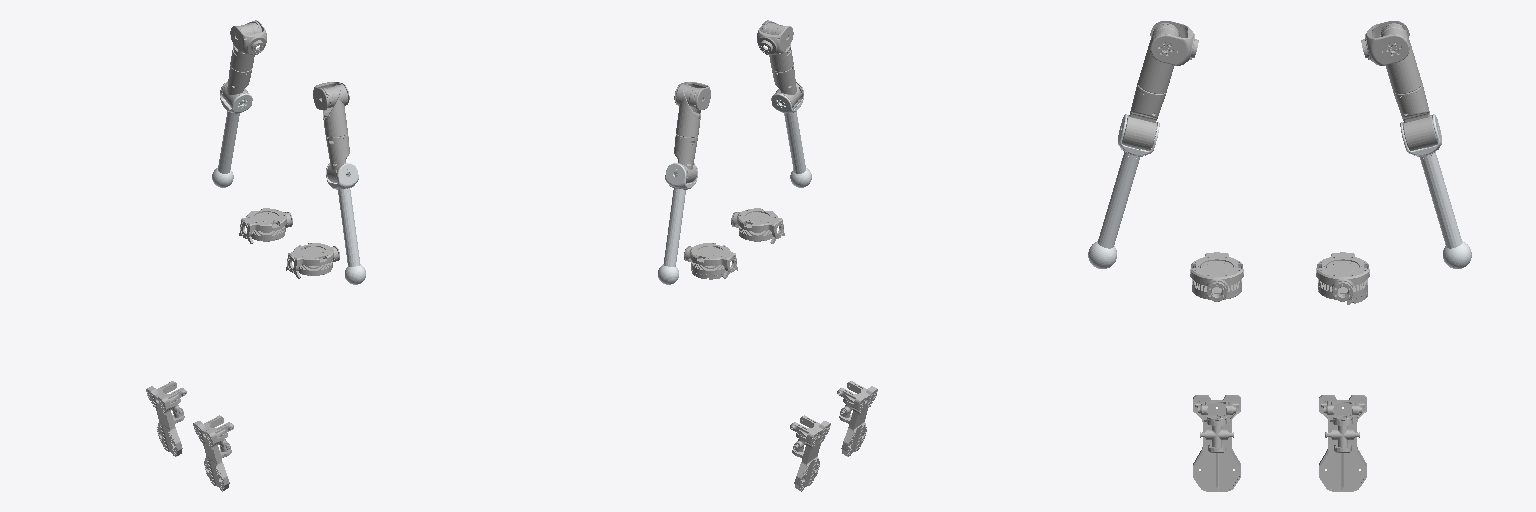
--- What the picture shows (computed from the rendered views, not written in the file) ---
Views: 3 orthographic renders of the robot side by side, from view 1: azimuth 30°, elevation 25°; view 2: azimuth 150°, elevation 25°; view 3: azimuth 270°, elevation 25°.
Robot: humanoid — 22 links, 21 joints (20 revolute, 1 fixed); root link pelvis; default pose: joints at zero except 2 at the middle of their limits (knee_pitch_l_joint = 1.31, knee_pitch_r_joint = 1.31).
Visible links, largest first — view 1: elbow_r_link, ankle_roll_r_link, ankle_roll_l_link, elbow_l_link, hip_roll_r_link, hip_roll_l_link, shoulder_roll_r_link, shoulder_yaw_r_link, shoulder_pitch_l_link, shoulder_yaw_l_link, shoulder_roll_l_link; view 2: elbow_l_link, ankle_roll_l_link, ankle_roll_r_link, hip_roll_l_link, elbow_r_link, hip_roll_r_link, shoulder_roll_l_link, shoulder_yaw_l_link, shoulder_pitch_r_link, shoulder_yaw_r_link, shoulder_roll_r_link; view 3: ankle_roll_l_link, ankle_roll_r_link, elbow_l_link, elbow_r_link, hip_roll_l_link, hip_roll_r_link, shoulder_yaw_l_link, shoulder_yaw_r_link, shoulder_pitch_l_link, shoulder_pitch_r_link, shoulder_roll_l_link, shoulder_roll_r_link.
Link boxes in pixels (x1,y1,x2,y2): elbow_r_link: [326, 163, 365, 284]; ankle_roll_r_link: [193, 415, 233, 491]; ankle_roll_l_link: [146, 381, 186, 456]; elbow_l_link: [212, 81, 252, 187]; hip_roll_r_link: [286, 243, 339, 278]; hip_roll_l_link: [239, 208, 292, 243]; shoulder_roll_r_link: [323, 83, 347, 137]; shoulder_yaw_r_link: [326, 134, 349, 183]; shoulder_pitch_l_link: [230, 20, 266, 54]; shoulder_yaw_l_link: [221, 65, 251, 107]; shoulder_roll_l_link: [230, 21, 261, 71]; elbow_l_link: [658, 163, 697, 284]; ankle_roll_l_link: [790, 415, 830, 491]; ankle_roll_r_link: [837, 381, 877, 456]; hip_roll_l_link: [684, 243, 737, 279]; elbow_r_link: [771, 81, 811, 187]; hip_roll_r_link: [731, 208, 784, 243]; shoulder_roll_l_link: [676, 83, 701, 137]; shoulder_yaw_l_link: [674, 134, 697, 183]; shoulder_pitch_r_link: [757, 20, 793, 54]; shoulder_yaw_r_link: [772, 65, 802, 107]; shoulder_roll_r_link: [762, 21, 793, 71]; ankle_roll_l_link: [1319, 395, 1366, 491]; ankle_roll_r_link: [1193, 395, 1240, 491]; elbow_l_link: [1400, 114, 1471, 268]; elbow_r_link: [1088, 114, 1159, 268]; hip_roll_l_link: [1316, 252, 1369, 304]; hip_roll_r_link: [1190, 252, 1243, 301]; shoulder_yaw_l_link: [1393, 83, 1437, 150]; shoulder_yaw_r_link: [1122, 83, 1166, 150]; shoulder_pitch_l_link: [1361, 21, 1409, 65]; shoulder_pitch_r_link: [1150, 21, 1198, 65]; shoulder_roll_l_link: [1381, 23, 1421, 93]; shoulder_roll_r_link: [1138, 23, 1178, 93].
Bounding box of the posed robot: 0.4311 × 0.7924 × 1.2 m (x, y, z).
14 mesh visuals loaded from 22 distinct referenced files (14 binary STL); not drawn: 8 (reference not matched to a file when rendering).

URDF robot description (humanoid):
<?xml version="1.0" encoding="utf-8"?>
<robot
  name="humanoid">
  <link
    name="pelvis">
    <inertial>
      <origin
        xyz="-0.047395 0.00 -0.046657"
        rpy="0 0 0" />
      <mass
        value="5.587228" />
      <inertia
        ixx="0.080339"
        ixy="-0.0000080"
        ixz="0.006666"
        iyy="0.029082"
        iyz="-0.000004"
        izz="0.091570" />
    </inertial>
    <visual>
      <origin
        xyz="0 0 0"
        rpy="0 0 0" />
      <geometry>
        <mesh
          filename="../meshes/pelvis.STL" />
      </geometry>
      <material
        name="">
        <color
          rgba="0.752941176470588 0.752941176470588 0.752941176470588 1" />
      </material>
    </visual>
    <collision>
      <origin
        xyz="0 0 0"
        rpy="0 0 0" />
      <geometry>
        <mesh
          filename="../meshes/pelvis.STL" />
      </geometry>
    </collision>
  </link>
  <link
    name="hip_roll_l_link">
    <inertial>
      <origin
        xyz="-0.00048 0.00336 -0.00372"
        rpy="0 0 0" />
      <mass
        value="1.12809" />
      <inertia
        ixx="0.00058"
        ixy="0.00000"
        ixz="0.00000"
        iyy="0.00093"
        iyz="-0.00011"
        izz="0.00108" />
    </inertial>
    <visual>
      <origin
        xyz="0 0 0"
        rpy="0 0 0" />
      <geometry>
        <mesh
          filename="../meshes/hip_roll_l_link.STL" />
      </geometry>
      <material
        name="">
        <color
          rgba="0.752941176470588 0.752941176470588 0.752941176470588 1" />
      </material>
    </visual>
    <collision>
      <origin
        xyz="0 0 0"
        rpy="0 0 0" />
      <geometry>
        <mesh
          filename="../meshes/hip_roll_l_link.STL" />
      </geometry>
    </collision>
  </link>
  <joint
    name="hip_roll_l_joint"
    type="revolute">
    <origin
      xyz="0 0.13 -0.0659230484541305"
      rpy="0 0 0" />
    <parent
      link="pelvis" />
    <child
      link="hip_roll_l_link" />
    <axis
      xyz="1 0 0" />
    <limit effort="150" lower="-0.97" upper="0.97" velocity="12"/>
  </joint>
  <link
    name="hip_yaw_l_link">
    <inertial>
      <origin
        xyz="0.00104 0.00351 0.00968"
        rpy="0 0 0" />
      <mass
        value="1.91605" />
      <inertia
        ixx="0.00237"
        ixy="-0.00005"
        ixz="-0.00001"
        iyy="0.00271"
        iyz="-0.00005"
        izz="0.00152" />
    </inertial>
    <visual>
      <origin
        xyz="0 0 0"
        rpy="0 0 0" />
      <geometry>
        <mesh
          filename="../meshes/hip_yaw_l_link.STL" />
      </geometry>
      <material
        name="">
        <color
          rgba="0.752941176470588 0.752941176470588 0.752941176470588 1" />
      </material>
    </visual>
    <collision>
      <origin
        xyz="0 0 0"
        rpy="0 0 0" />
      <geometry>
        <mesh
          filename="../meshes/hip_yaw_l_link.STL" />
      </geometry>
    </collision>
  </link>
  <joint
    name="hip_yaw_l_joint"
    type="revolute">
    <origin
      xyz="0 0 -0.116"
      rpy="0 0 0" />
    <parent
      link="hip_roll_l_link" />
    <child
      link="hip_yaw_l_link" />
    <axis
      xyz="0 0 1" />
    <limit effort="90" lower="-1.0472" upper="1.0472" velocity="14"/>
  </joint>
  <link
    name="hip_pitch_l_link">
    <inertial>
      <origin
        xyz="0.00823 -0.00853 -0.13551"
        rpy="0 0 0" />
      <mass
        value="3.37311" />
      <inertia
        ixx="0.02261"
        ixy="0.00036"
        ixz="-0.00020"
        iyy="0.02274"
        iyz="-0.00132"
        izz="0.00637" />
    </inertial>
    <visual>
      <origin
        xyz="0 0 0"
        rpy="0 0 0" />
      <geometry>
        <mesh
          filename="../meshes/hip_pitch_l_link.STL" />
      </geometry>
      <material
        name="">
        <color
          rgba="0.752941176470588 0.752941176470588 0.752941176470588 1" />
      </material>
    </visual>
    <collision>
      <origin
        xyz="0 0 0"
        rpy="0 0 0" />
      <geometry>
        <mesh
          filename="../meshes/hip_pitch_l_link.STL" />
      </geometry>
    </collision>
  </link>
  <joint
    name="hip_pitch_l_joint"
    type="revolute">
    <origin
      xyz="0 0 0"
      rpy="0 0 0" />
    <parent
      link="hip_yaw_l_link" />
    <child
      link="hip_pitch_l_link" />
    <axis
      xyz="0 1 0" />
    <limit effort="150" lower="-1.57" upper="0.5236" velocity="12"/>
  </joint>
  <link
    name="knee_pitch_l_link">
    <inertial>
      <origin
        xyz="0.00228 0.00293 -0.12066"
        rpy="0 0 0" />
      <mass
        value="2.28832" />
      <inertia
        ixx="0.02033"
        ixy="0.00004"
        ixz="0.00049"
        iyy="0.02013"
        iyz="0.00089"
        izz="0.00090" />
    </inertial>
    <visual>
      <origin
        xyz="0 0 0"
        rpy="0 0 0" />
      <geometry>
        <mesh
          filename="../meshes/knee_pitch_l_link.STL" />
      </geometry>
      <material
        name="">
        <color
          rgba="0.752941176470588 0.752941176470588 0.752941176470588 1" />
      </material>
    </visual>
    <collision>
      <origin
        xyz="0 0 0"
        rpy="0 0 0" />
      <geometry>
        <mesh
          filename="../meshes/knee_pitch_l_link.STL" />
      </geometry>
    </collision>
  </link>
  <joint
    name="knee_pitch_l_joint"
    type="revolute">
    <origin
      xyz="0 0 -0.3"
      rpy="0 0 0" />
    <parent
      link="hip_pitch_l_link" />
    <child
      link="knee_pitch_l_link" />
    <axis
      xyz="0 1 0" />
    <limit effort="150" lower="0.1745" upper="2.443" velocity="12"/>
  </joint>
  <link
    name="ankle_pitch_l_link">
    <inertial>
      <origin
        xyz="0.00027 0.00 0.00"
        rpy="0 0 0" />
      <mass
        value="0.15163" />
      <inertia
        ixx="0.00003"
        ixy="0.00000"
        ixz="0.00000"
        iyy="0.00003"
        iyz="0.00000"
        izz="0.00006" />
    </inertial>
    <visual>
      <origin
        xyz="0 0 0"
        rpy="0 0 0" />
      <geometry>
        <mesh
          filename="../meshes/ankle_pitch_l_link.STL" />
      </geometry>
      <material
        name="">
        <color
          rgba="0.752941176470588 0.752941176470588 0.752941176470588 1" />
      </material>
    </visual>
    <collision>
      <origin
        xyz="0 0 0"
        rpy="0 0 0" />
      <geometry>
        <mesh
          filename="../meshes/ankle_pitch_l_link.STL" />
      </geometry>
    </collision>
  </link>
  <joint
    name="ankle_pitch_l_joint"
    type="revolute">
    <origin
      xyz="0 0 -0.3"
      rpy="0 0 0" />
    <parent
      link="knee_pitch_l_link" />
    <child
      link="ankle_pitch_l_link" />
    <axis
      xyz="0 1 0" />
    <limit effort="60" lower="-1.22" upper="0.5236" velocity="7.8"/>
  </joint>
  <link
    name="ankle_roll_l_link">
    <inertial>
      <origin
        xyz="0.00499834596807007 3.85656999529749E-07 -0.0269363007684662"
        rpy="0 0 0" />
      <mass
        value="0.658333536719065" />
      <inertia
        ixx="0.000513570989980863"
        ixy="-4.87505487499137E-09"
        ixz="0.000203238044973804"
        iyy="0.00217612928759338"
        iyz="7.25924990022402E-10"
        izz="0.00236715733639348" />
    </inertial>
    <visual>
      <origin
        xyz="0 0 0"
        rpy="0 0 0" />
      <geometry>
        <mesh
          filename="../meshes/ankle_roll_l_link.STL" />
      </geometry>
      <material
        name="">
        <color
          rgba="0.752941176470588 0.752941176470588 0.752941176470588 1" />
      </material>
    </visual>
    <collision>
      <origin
        xyz="0 0 0"
        rpy="0 0 0" />
      <geometry>
        <mesh
          filename="../meshes/ankle_roll_l_link.STL" />
      </geometry>
    </collision>
  </link>
  <joint
    name="ankle_roll_l_joint"
    type="revolute">
    <origin
      xyz="0 0 0"
      rpy="0 0 0" />
    <parent
      link="ankle_pitch_l_link" />
    <child
      link="ankle_roll_l_link" />
    <axis
      xyz="1 0 0" />
    <limit effort="30" lower="-0.4363" upper="0.4363" velocity="7.8"/>
  </joint>
  <link
    name="hip_roll_r_link">
    <inertial>
      <origin
        xyz="-0.00048 -0.00336 -0.00372"
        rpy="0 0 0" />
      <mass
        value="1.12809" />
      <inertia
        ixx="0.00058"
        ixy="0.00000"
        ixz="0.00000"
        iyy="0.00093"
        iyz="0.00011"
        izz="0.00108" />
    </inertial>
    <visual>
      <origin
        xyz="0 0 0"
        rpy="0 0 0" />
      <geometry>
        <mesh
          filename="../meshes/hip_roll_r_link.STL" />
      </geometry>
      <material
        name="">
        <color
          rgba="0.752941176470588 0.752941176470588 0.752941176470588 1" />
      </material>
    </visual>
    <collision>
      <origin
        xyz="0 0 0"
        rpy="0 0 0" />
      <geometry>
        <mesh
          filename="../meshes/hip_roll_r_link.STL" />
      </geometry>
    </collision>
  </link>
  <joint
    name="hip_roll_r_joint"
    type="revolute">
    <origin
      xyz="0 -0.13 -0.0659230484541306"
      rpy="0 0 0" />
    <parent
      link="pelvis" />
    <child
      link="hip_roll_r_link" />
    <axis
      xyz="1 0 0" />
    <limit effort="150" lower="-0.97" upper="0.97" velocity="12"/>
  </joint>
  <link
    name="hip_yaw_r_link">
    <inertial>
      <origin
        xyz="0.00104 -0.00351 0.00968"
        rpy="0 0 0" />
      <mass
        value="1.91605" />
      <inertia
        ixx="0.00237"
        ixy="0.00005"
        ixz="-0.00001"
        iyy="0.00271"
        iyz="0.00005"
        izz="0.00152" />
    </inertial>
    <visual>
      <origin
        xyz="0 0 0"
        rpy="0 0 0" />
      <geometry>
        <mesh
          filename="../meshes/hip_yaw_r_link.STL" />
      </geometry>
      <material
        name="">
        <color
          rgba="0.752941176470588 0.752941176470588 0.752941176470588 1" />
      </material>
    </visual>
    <collision>
      <origin
        xyz="0 0 0"
        rpy="0 0 0" />
      <geometry>
        <mesh
          filename="../meshes/hip_yaw_r_link.STL" />
      </geometry>
    </collision>
  </link>
  <joint
    name="hip_yaw_r_joint"
    type="revolute">
    <origin
      xyz="0 0 -0.116"
      rpy="0 0 0" />
    <parent
      link="hip_roll_r_link" />
    <child
      link="hip_yaw_r_link" />
    <axis
      xyz="0 0 1" />
    <limit effort="90" lower="-1.0472" upper="1.0472" velocity="14"/>
  </joint>
  <link
    name="hip_pitch_r_link">
    <inertial>
      <origin
        xyz="0.00823 0.00853 -0.13551"
        rpy="0 0 0" />
      <mass
        value="3.37311" />
      <inertia
        ixx="0.02261"
        ixy="-0.00036"
        ixz="-0.00020"
        iyy="0.02274"
        iyz="0.00132"
        izz="0.00637" />
    </inertial>
    <visual>
      <origin
        xyz="0 0 0"
        rpy="0 0 0" />
      <geometry>
        <mesh
          filename="../meshes/hip_pitch_r_link.STL" />
      </geometry>
      <material
        name="">
        <color
          rgba="0.752941176470588 0.752941176470588 0.752941176470588 1" />
      </material>
    </visual>
    <collision>
      <origin
        xyz="0 0 0"
        rpy="0 0 0" />
      <geometry>
        <mesh
          filename="../meshes/hip_pitch_r_link.STL" />
      </geometry>
    </collision>
  </link>
  <joint
    name="hip_pitch_r_joint"
    type="revolute">
    <origin
      xyz="0 0 0"
      rpy="0 0 0" />
    <parent
      link="hip_yaw_r_link" />
    <child
      link="hip_pitch_r_link" />
    <axis
      xyz="0 1 0" />
    <limit effort="150" lower="-1.57" upper="0.5236" velocity="12"/>
  </joint>
  <link
    name="knee_pitch_r_link">
    <inertial>
      <origin
        xyz="0.00228 -0.00293 -0.12066"
        rpy="0 0 0" />
      <mass
        value="2.28832" />
      <inertia
        ixx="0.02033"
        ixy="-0.00004"
        ixz="0.00049"
        iyy="0.02013"
        iyz="-0.00089"
        izz="0.00090" />
    </inertial>
    <visual>
      <origin
        xyz="0 0 0"
        rpy="0 0 0" />
      <geometry>
        <mesh
          filename="../meshes/knee_pitch_r_link.STL" />
      </geometry>
      <material
        name="">
        <color
          rgba="0.752941176470588 0.752941176470588 0.752941176470588 1" />
      </material>
    </visual>
    <collision>
      <origin
        xyz="0 0 0"
        rpy="0 0 0" />
      <geometry>
        <mesh
          filename="../meshes/knee_pitch_r_link.STL" />
      </geometry>
    </collision>
  </link>
  <joint
    name="knee_pitch_r_joint"
    type="revolute">
    <origin
      xyz="0 0 -0.3"
      rpy="0 0 0" />
    <parent
      link="hip_pitch_r_link" />
    <child
      link="knee_pitch_r_link" />
    <axis
      xyz="0 1 0" />
    <limit effort="150" lower="0.1745" upper="2.443" velocity="12"/>
  </joint>
  <link
    name="ankle_pitch_r_link">
    <inertial>
      <origin
        xyz="0.00027 0.00 0.00"
        rpy="0 0 0" />
      <mass
        value="0.15163" />
      <inertia
        ixx="0.00003"
        ixy="0.00000"
        ixz="0.00000"
        iyy="0.00003"
        iyz="0.00000"
        izz="0.00006" />
    </inertial>
    <visual>
      <origin
        xyz="0 0 0"
        rpy="0 0 0" />
      <geometry>
        <mesh
          filename="../meshes/ankle_pitch_r_link.STL" />
      </geometry>
      <material
        name="">
        <color
          rgba="0.752941176470588 0.752941176470588 0.752941176470588 1" />
      </material>
    </visual>
    <collision>
      <origin
        xyz="0 0 0"
        rpy="0 0 0" />
      <geometry>
        <mesh
          filename="../meshes/ankle_pitch_r_link.STL" />
      </geometry>
    </collision>
  </link>
  <joint
    name="ankle_pitch_r_joint"
    type="revolute">
    <origin
      xyz="0 0 -0.3"
      rpy="0 0 0" />
    <parent
      link="knee_pitch_r_link" />
    <child
      link="ankle_pitch_r_link" />
    <axis
      xyz="0 1 0" />
    <limit effort="60" lower="-1.22" upper="0.5236" velocity="7.8"/>
  </joint>
  <link
    name="ankle_roll_r_link">
    <inertial>
      <origin
        xyz="0.00499834596807082 3.85656999640771E-07 -0.0269363007684669"
        rpy="0 0 0" />
      <mass
        value="0.658333536719064" />
      <inertia
        ixx="0.000513570989980871"
        ixy="-4.8750548686116E-09"
        ixz="0.000203238044973807"
        iyy="0.00217612928759339"
        iyz="7.25924989997628E-10"
        izz="0.00236715733639349" />
    </inertial>
    <visual>
      <origin
        xyz="0 0 0"
        rpy="0 0 0" />
      <geometry>
        <mesh
          filename="../meshes/ankle_roll_r_link.STL" />
      </geometry>
      <material
        name="">
        <color
          rgba="0.752941176470588 0.752941176470588 0.752941176470588 1" />
      </material>
    </visual>
    <collision>
      <origin
        xyz="0 0 0"
        rpy="0 0 0" />
      <geometry>
        <mesh
          filename="../meshes/ankle_roll_r_link.STL" />
      </geometry>
    </collision>
  </link>
  <joint
    name="ankle_roll_r_joint"
    type="revolute">
    <origin
      xyz="0 0 0"
      rpy="0 0 0" />
    <parent
      link="ankle_pitch_r_link" />
    <child
      link="ankle_roll_r_link" />
    <axis
      xyz="1 0 0" />
    <limit effort="30" lower="-0.4363" upper="0.4363" velocity="7.8"/>
  </joint>
  <link
    name="waist_link">
    <inertial>
      <origin
        xyz="-0.005467 -0.000016 0.302017"
        rpy="0 0 0" />
      <mass
        value="13.8" />
      <inertia
        ixx="0.527626"
        ixy="0.000095"
        ixz="-0.001701"
        iyy="0.471407"
        iyz="-0.000322"
        izz="0.111941"/>
    </inertial>
    <visual>
      <origin
        xyz="0 0 0"
        rpy="0 0 0" />
      <geometry>
        <mesh
          filename="../meshes/waist_link.STL" />
      </geometry>
      <material
        name="">
        <color
          rgba="0.752941176470588 0.752941176470588 0.752941176470588 1" />
      </material>
    </visual>
    <collision>
      <origin
        xyz="0 0 0"
        rpy="0 0 0" />
      <geometry>
        <mesh
          filename="../meshes/waist_link.STL" />
      </geometry>
    </collision>
  </link>
  <joint
    name="waist_joint"
    type="fixed">
    <origin
      xyz="0 0 0.0192"
      rpy="0 0 0" />
    <parent
      link="pelvis" />
    <child
      link="waist_link" />
    <axis
      xyz="0 0 1" />
    <limit effort="1000" lower="-3.14" upper="3.14" velocity="100"/>
  </joint>
  <link
    name="shoulder_pitch_l_link">
    <inertial>
      <origin
        xyz="0.000988 0.030202 0.000417"
        rpy="0 0 0" />
      <mass
        value="0.163757" />
      <inertia
        ixx="0.000156"
        ixy="0.000005"
        ixz="0.000000"
        iyy="0.000183"
        iyz="0.000000"
        izz="0.000224" />
    </inertial>
    <visual>
      <origin
        xyz="0 0 0"
        rpy="0 0 0" />
      <geometry>
        <mesh
          filename="../meshes/shoulder_pitch_l_link.STL" />
      </geometry>
      <material
        name="">
        <color
          rgba="0.752941176470588 0.752941176470588 0.752941176470588 1" />
      </material>
    </visual>
    <collision>
      <origin
        xyz="0 0 0"
        rpy="0 0 0" />
      <geometry>
        <mesh
          filename="../meshes/shoulder_pitch_l_link.STL" />
      </geometry>
    </collision>
  </link>
  <joint
    name="shoulder_pitch_l_joint"
    type="revolute">
    <origin
      xyz="0 0.17581 0.43652"
      rpy="0.2618 0 0" />
    <parent
      link="waist_link" />
    <child
      link="shoulder_pitch_l_link" />
    <axis
      xyz="0 1 0" />
    <limit effort="36" lower="-3.14" upper="0.97" velocity="7.8"/>
  </joint>
  <link
    name="shoulder_roll_l_link">
    <inertial>
      <origin
        xyz="0.004522 -0.000011 -0.042682"
        rpy="0 0 0" />
      <mass
        value="0.933844" />
      <inertia
        ixx="0.001705"
        ixy="0.00000"
        ixz="0.000170"
        iyy="0.00172"
        iyz="0.000001"
        izz="0.000234" />
    </inertial>
    <visual>
      <origin
        xyz="0 0 0"
        rpy="0 0 0" />
      <geometry>
        <mesh
          filename="../meshes/shoulder_roll_l_link.STL" />
      </geometry>
      <material
        name="">
        <color
          rgba="0.752941176470588 0.752941176470588 0.752941176470588 1" />
      </material>
    </visual>
    <collision>
      <origin
        xyz="0 0 0"
        rpy="0 0 0" />
      <geometry>
        <mesh
          filename="../meshes/shoulder_roll_l_link.STL" />
      </geometry>
    </collision>
  </link>
  <joint
    name="shoulder_roll_l_joint"
    type="revolute">
    <origin
      xyz="-0.0025 0.062 0"
      rpy="0 0 0" />
    <parent
      link="shoulder_pitch_l_link" />
    <child
      link="shoulder_roll_l_link" />
    <axis
      xyz="1 0 0" />
    <limit effort="36" lower="-0.08" upper="3.49" velocity="7.8"/>
  </joint>
  <link
    name="shoulder_yaw_l_link">
    <inertial>
      <origin
        xyz="-0.000044 -0.002833 -0.092643"
        rpy="0 0 0" />
      <mass
        value="0.610091" />
      <inertia
        ixx="0.000943"
        ixy="0.000001"
        ixz="0.000001"
        iyy="0.000918"
        iyz="0.000030"
        izz="0.000220" />
    </inertial>
    <visual>
      <origin
        xyz="0 0 0"
        rpy="0 0 0" />
      <geometry>
        <mesh
          filename="../meshes/shoulder_yaw_l_link.STL" />
      </geometry>
      <material
        name="">
        <color
          rgba="0.752941176470588 0.752941176470588 0.752941176470588 1" />
      </material>
    </visual>
    <collision>
      <origin
        xyz="0 0 0"
        rpy="0 0 0" />
      <geometry>
        <mesh
          filename="../meshes/shoulder_yaw_l_link.STL" />
      </geometry>
    </collision>
  </link>
  <joint
    name="shoulder_yaw_l_joint"
    type="revolute">
    <origin
      xyz="0 0 -0.107"
      rpy="0 0 0" />
    <parent
      link="shoulder_roll_l_link" />
    <child
      link="shoulder_yaw_l_link" />
    <axis
      xyz="0 0 1" />
    <limit effort="36" lower="-2.96" upper="2.96" velocity="7.8"/>
  </joint>
  <link
    name="elbow_l_link">
    <inertial>
      <origin
        xyz="-0.000267 -0.001013 -0.145930"
        rpy="0 0 0" />
      <mass
        value="0.341159" />
      <inertia
        ixx="0.005196"
        ixy="0.0"
        ixz="0.000004"
        iyy="0.005151"
        iyz="-0.000052"
        izz="0.000220" />
    </inertial>
    <visual>
      <origin
        xyz="0 0 0"
        rpy="0 0 0" />
      <geometry>
        <mesh
          filename="../meshes/elbow_l_link.STL" />
      </geometry>
      <material
        name="">
        <color
          rgba="0.898039215686275 0.917647058823529 0.929411764705882 1" />
      </material>
    </visual>
    <collision>
      <origin
        xyz="0 0 0"
        rpy="0 0 0" />
      <geometry>
        <mesh
          filename="../meshes/elbow_l_link.STL" />
      </geometry>
    </collision>
  </link>
  <joint
    name="elbow_l_joint"
    type="revolute">
    <origin
      xyz="-0.0 0.0 -0.11"
      rpy="0 0 0" />
    <parent
      link="shoulder_yaw_l_link" />
    <child
      link="elbow_l_link" />
    <axis
      xyz="0 1 0" />
    <limit effort="36" lower="-2.1" upper="0.0" velocity="7.8"/>
  </joint>
  <link
    name="shoulder_pitch_r_link">
    <inertial>
      <origin
        xyz="0.000988 -0.030202 0.000417"
        rpy="0 0 0" />
      <mass
        value="0.163757" />
      <inertia
        ixx="0.000156"
        ixy="-0.000005"
        ixz="0.000000"
        iyy="0.000183"
        iyz="-0.000000"
        izz="0.000224" />
    </inertial>
    <visual>
      <origin
        xyz="0 0 0"
        rpy="0 0 0" />
      <geometry>
        <mesh
          filename="../meshes/shoulder_pitch_r_link.STL" />
      </geometry>
      <material
        name="">
        <color
          rgba="0.752941176470588 0.752941176470588 0.752941176470588 1" />
      </material>
    </visual>
    <collision>
      <origin
        xyz="0 0 0"
        rpy="0 0 0" />
      <geometry>
        <mesh
          filename="../meshes/shoulder_pitch_r_link.STL" />
      </geometry>
    </collision>
  </link>
  <joint
    name="shoulder_pitch_r_joint"
    type="revolute">
    <origin
      xyz="0 -0.17577 0.43652"
      rpy="-0.2618 0 0" />
    <parent
      link="waist_link" />
    <child
      link="shoulder_pitch_r_link" />
    <axis
      xyz="0 1 0" />
    <limit effort="36" lower="-3.14" upper="0.97" velocity="7.8"/>
  </joint>
  <link
    name="shoulder_roll_r_link">
    <inertial>
      <origin
        xyz="0.004522 0.000011 -0.042682"
        rpy="0 0 0" />
      <mass
        value="0.933844" />
      <inertia
        ixx="0.001705"
        ixy="-0.00000"
        ixz="0.000170"
        iyy="0.00172"
        iyz="-0.000001"
        izz="0.000234" />
    </inertial>
    <visual>
      <origin
        xyz="0 0 0"
        rpy="0 0 0" />
      <geometry>
        <mesh
          filename="../meshes/shoulder_roll_r_link.STL" />
      </geometry>
      <material
        name="">
        <color
          rgba="0.752941176470588 0.752941176470588 0.752941176470588 1" />
      </material>
    </visual>
    <collision>
      <origin
        xyz="0 0 0"
        rpy="0 0 0" />
      <geometry>
        <mesh
          filename="../meshes/shoulder_roll_r_link.STL" />
      </geometry>
    </collision>
  </link>
  <joint
    name="shoulder_roll_r_joint"
    type="revolute">
    <origin
      xyz="-0.0025 -0.062 0"
      rpy="0 0 0" />
    <parent
      link="shoulder_pitch_r_link" />
    <child
      link="shoulder_roll_r_link" />
    <axis
      xyz="1 0 0" />
    <limit effort="36" lower="-3.49" upper="0.08" velocity="7.8"/>
  </joint>
  <link
    name="shoulder_yaw_r_link">
    <inertial>
      <origin
        xyz="-0.000044 0.002833 -0.092643"
        rpy="0 0 0" />
      <mass
        value="0.610091" />
      <inertia
        ixx="0.000943"
        ixy="-0.000001"
        ixz="0.000001"
        iyy="0.000918"
        iyz="-0.000030"
        izz="0.000220" />
    </inertial>
    <visual>
      <origin
        xyz="0 0 0"
        rpy="0 0 0" />
      <geometry>
        <mesh
          filename="../meshes/shoulder_yaw_r_link.STL" />
      </geometry>
      <material
        name="">
        <color
          rgba="0.752941176470588 0.752941176470588 0.752941176470588 1" />
      </material>
    </visual>
    <collision>
      <origin
        xyz="0 0 0"
        rpy="0 0 0" />
      <geometry>
        <mesh
          filename="../meshes/shoulder_yaw_r_link.STL" />
      </geometry>
    </collision>
  </link>
  <joint
    name="shoulder_yaw_r_joint"
    type="revolute">
    <origin
      xyz="0 0 -0.107"
      rpy="0 0 0" />
    <parent
      link="shoulder_roll_r_link" />
    <child
      link="shoulder_yaw_r_link" />
    <axis
      xyz="0 0 1" />
    <limit effort="36" lower="-2.96" upper="2.96" velocity="7.8"/>
  </joint>
  <link
    name="elbow_r_link">
    <inertial>
      <origin
        xyz="-0.000267 0.001013 -0.145930"
        rpy="0 0 0" />
      <mass
        value="0.341159" />
      <inertia
        ixx="0.005196"
        ixy="0.0"
        ixz="0.000004"
        iyy="0.005151"
        iyz="0.000052"
        izz="0.000220" />
    </inertial>
    <visual>
      <origin
        xyz="0 0 0"
        rpy="0 0 0" />
      <geometry>
        <mesh
          filename="../meshes/elbow_r_link.STL" />
      </geometry>
      <material
        name="">
        <color
          rgba="0.898039215686275 0.917647058823529 0.929411764705882 1" />
      </material>
    </visual>
    <collision>
      <origin
        xyz="0 0 0"
        rpy="0 0 0" />
      <geometry>
        <mesh
          filename="../meshes/elbow_r_link.STL" />
      </geometry>
    </collision>
  </link>
  <joint
    name="elbow_r_joint"
    type="revolute">
    <origin
      xyz="-0.0 -0.0 -0.11"
      rpy="0 0 0" />
    <parent
      link="shoulder_yaw_r_link" />
    <child
      link="elbow_r_link" />
    <axis
      xyz="0 1 0" />
    <limit effort="36" lower="-2.1" upper="0.0" velocity="7.8"/>
  </joint>
</robot>
